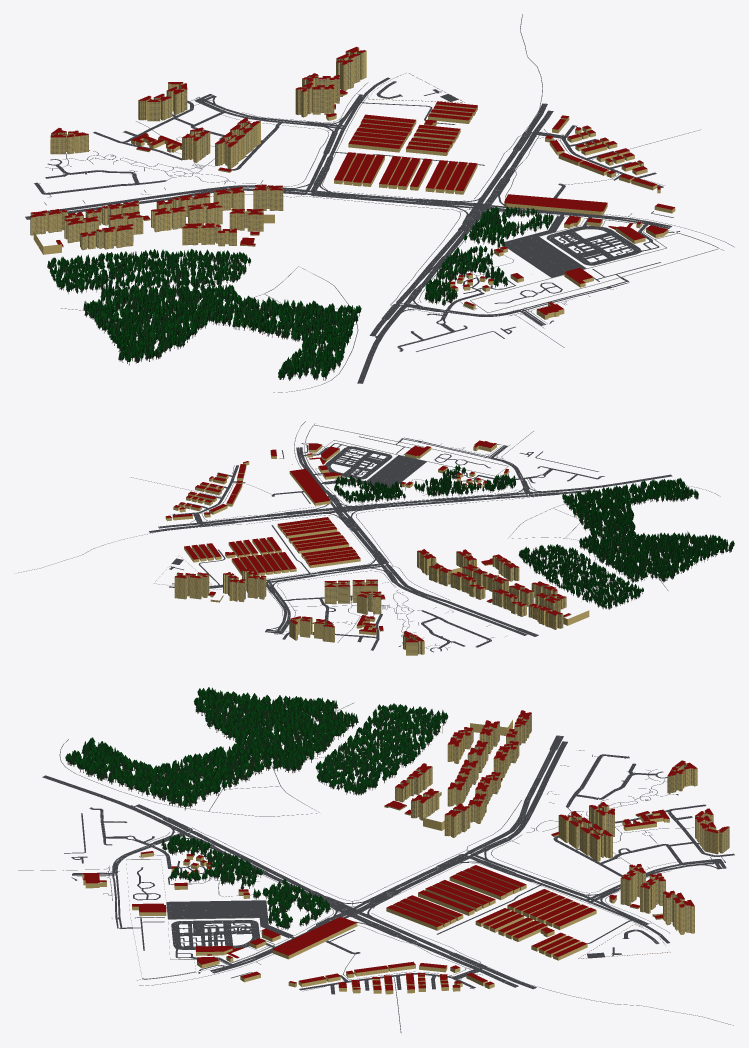
The model's file is osm3d.glb.
3 renders of one model, top to bottom at view 1: azimuth 30°, elevation 25°; view 2: azimuth 150°, elevation 25°; view 3: azimuth 270°, elevation 25°, orthographic. The views are drawn at different scales.
Parts seen in each view (by area): view 1: TextureAtlas 33546921, Plaster002, ASPHALT, RoofingTiles010, Windows, STONE; view 2: TextureAtlas 33546921, Plaster002, ASPHALT, RoofingTiles010, Windows, STONE; view 3: TextureAtlas 33546921, ASPHALT, Plaster002, RoofingTiles010, Windows.
Boxes of the visible parts, x1=… form: TextureAtlas 33546921: x1=47, y1=206, x2=553, y2=380; Plaster002: x1=30, y1=48, x2=675, y2=319; ASPHALT: x1=25, y1=14, x2=734, y2=392; RoofingTiles010: x1=30, y1=46, x2=674, y2=314; Windows: x1=30, y1=51, x2=363, y2=249; STONE: x1=470, y1=218, x2=717, y2=312; TextureAtlas 33546921: x1=334, y1=465, x2=734, y2=609; Plaster002: x1=165, y1=444, x2=589, y2=655; ASPHALT: x1=18, y1=421, x2=720, y2=652; RoofingTiles010: x1=166, y1=440, x2=570, y2=642; Windows: x1=175, y1=552, x2=570, y2=654; STONE: x1=305, y1=425, x2=508, y2=481; TextureAtlas 33546921: x1=65, y1=687, x2=448, y2=930; ASPHALT: x1=18, y1=702, x2=734, y2=1033; Plaster002: x1=82, y1=712, x2=729, y2=994; RoofingTiles010: x1=82, y1=710, x2=729, y2=990; Windows: x1=384, y1=713, x2=729, y2=934.
Bounding box in the file's own units: 1461 × 55.08 × 1318.
Materials: 18 (18 with a texture image).
